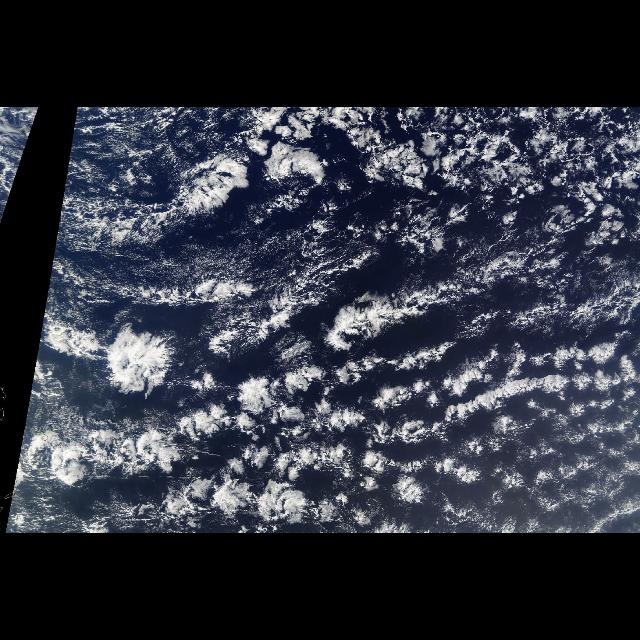Fish: (182, 243, 640, 377)
Flower: (17, 366, 636, 520), (177, 108, 626, 230)
